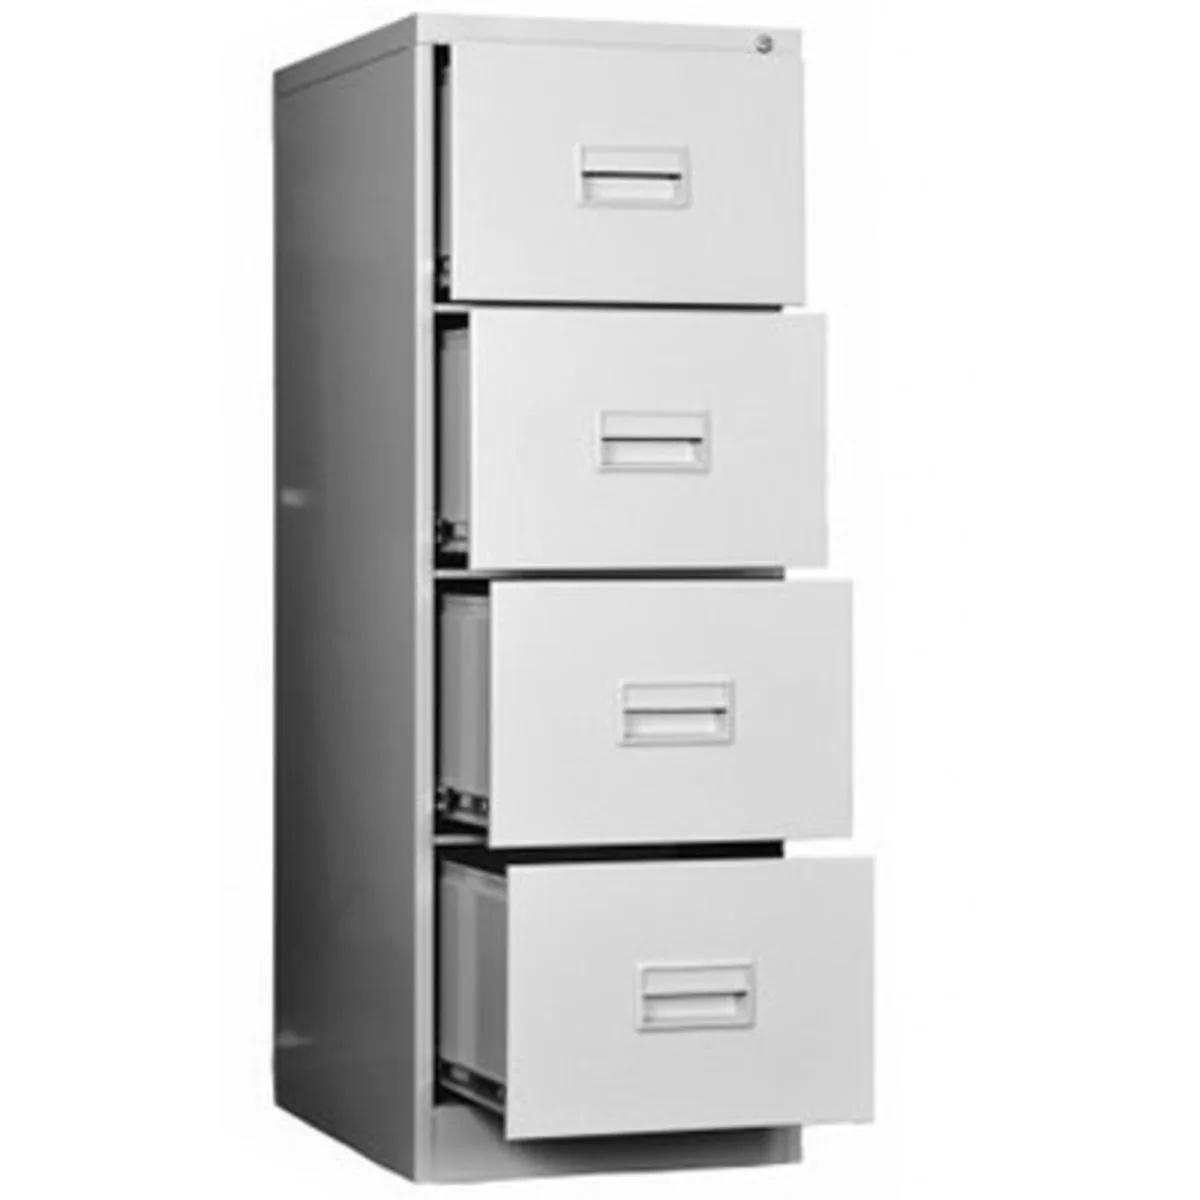Filing Cabinet: (408, 9, 877, 1181)
